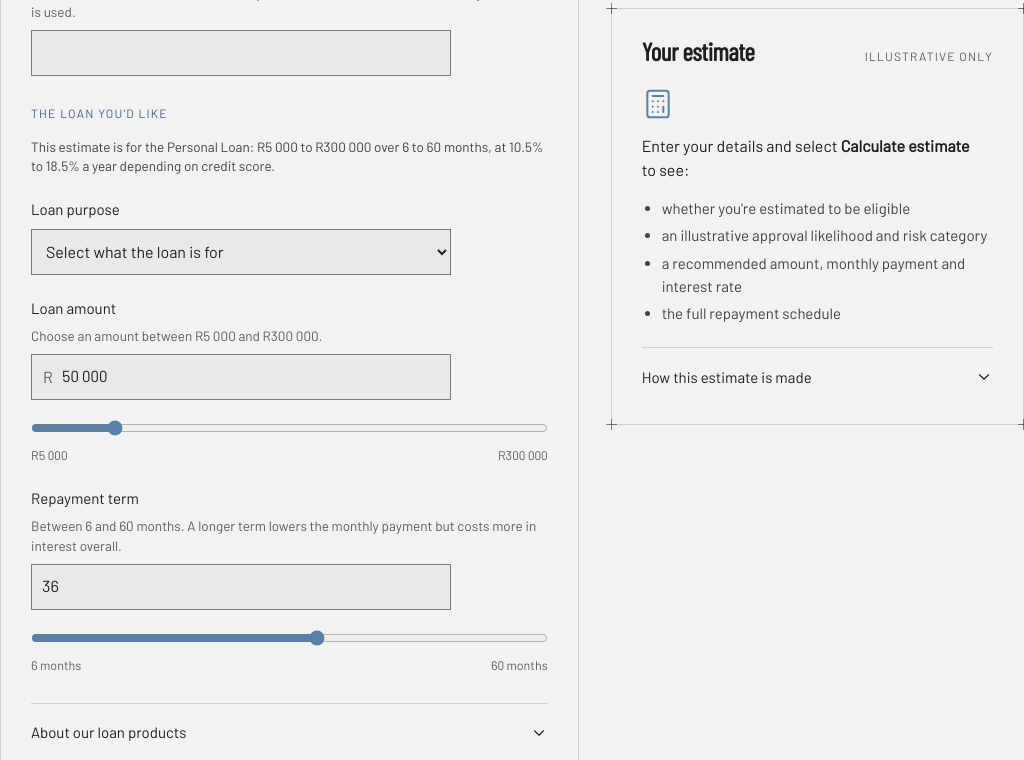
it: the form › keeps the sliders and fields in step
This screenshot has width=1024, height=760.
(page scrolled)
Replace the text in the field named "Loan amount in rand" with "120000": (241, 377) [31,354,451,400]
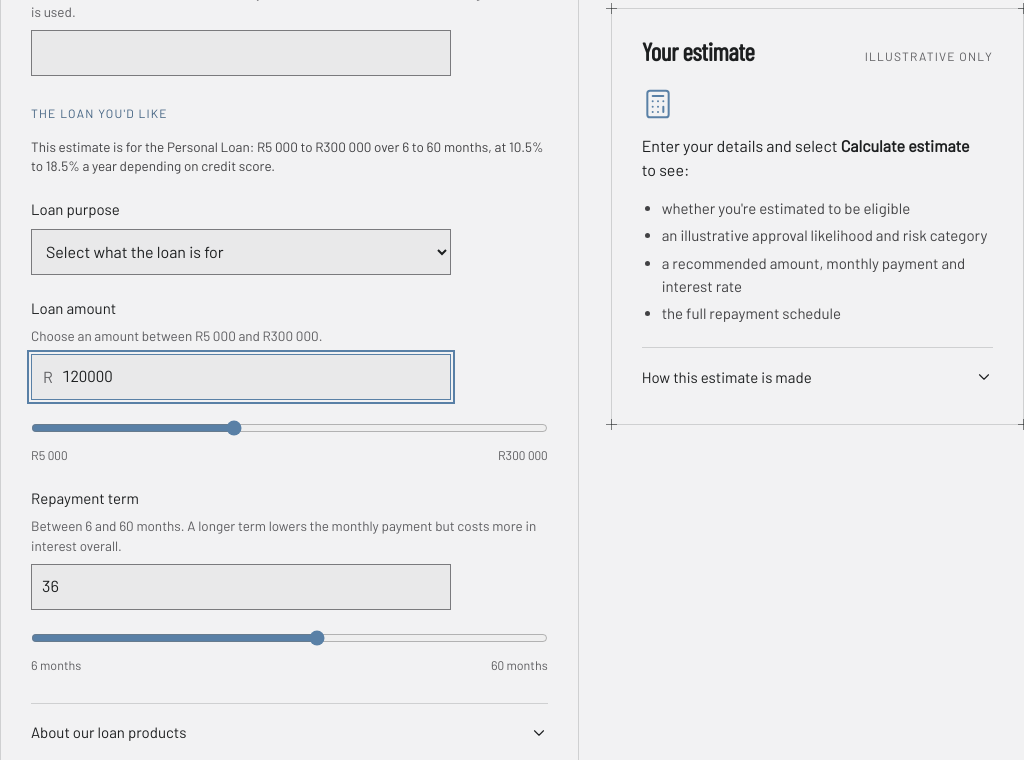
Now the slider named "Loan amount slider" holds "120000", box [31,412,548,444]
Replace the text in the field named "Repayment term in months" with "24": (241, 586) [31,564,451,610]
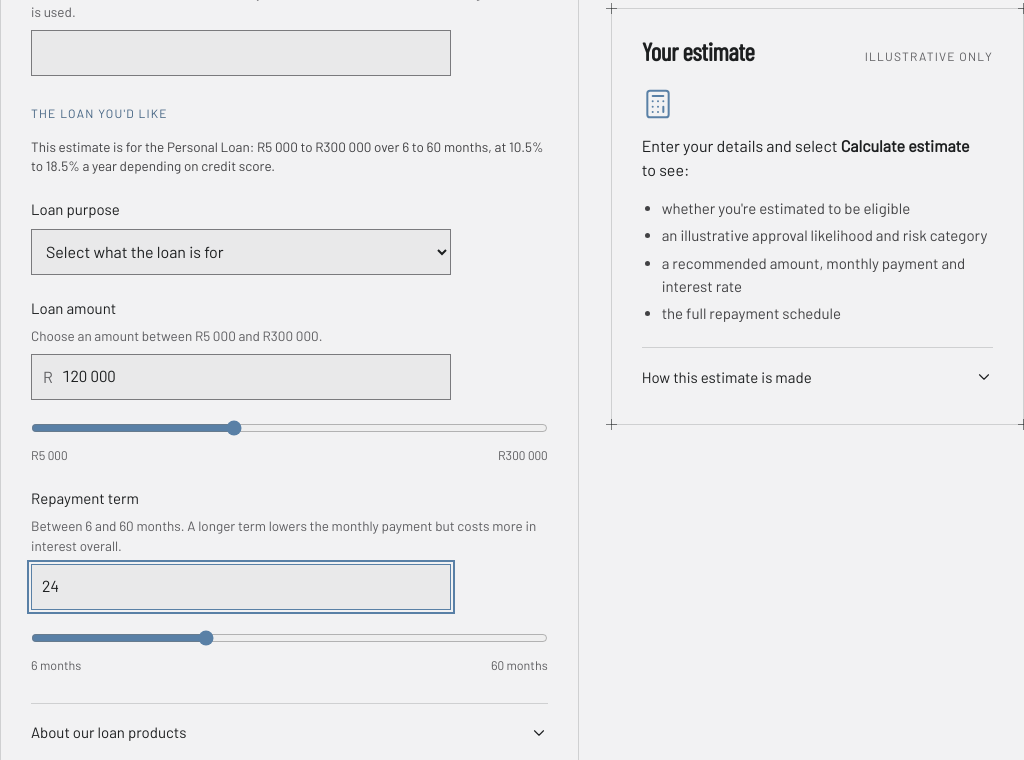
Now the slider named "Repayment term slider" holds "24", box [31,622,548,654]
